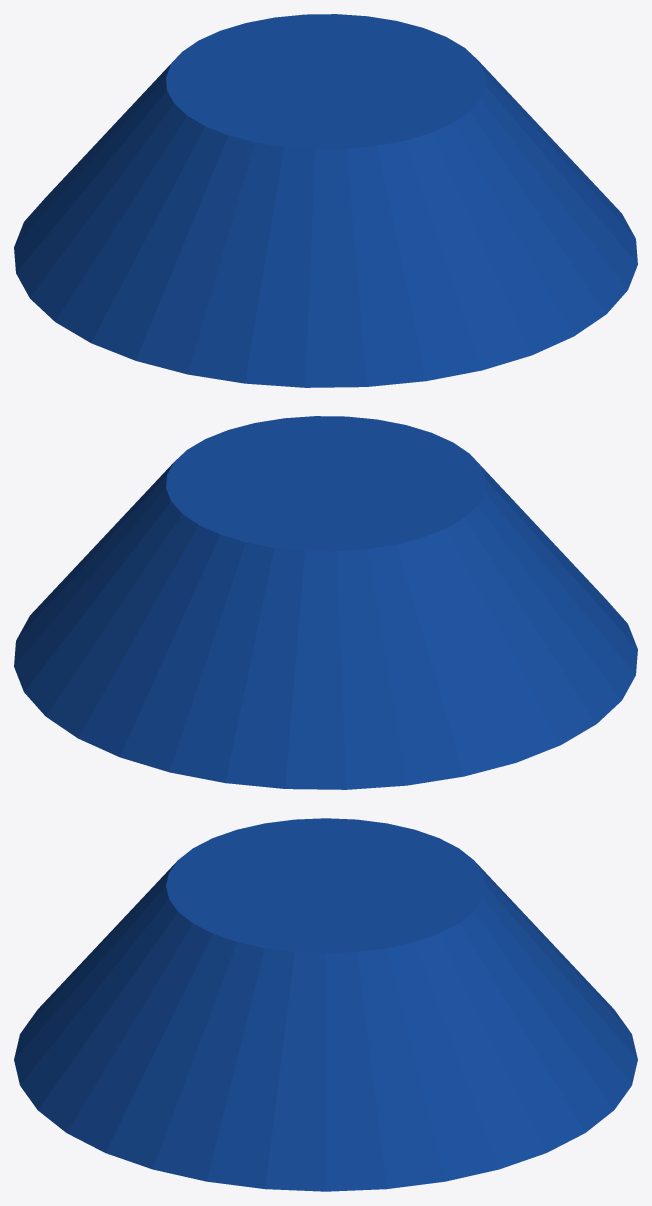
File: sensor.glb
The picture shows the model from 3 angles, top to bottom: view 1: azimuth 30°, elevation 25°; view 2: azimuth 150°, elevation 25°; view 3: azimuth 270°, elevation 25°; orthographic projection.
Parts seen in each view (by area): view 1: Cylinder; view 2: Cylinder; view 3: Cylinder.
Boxes of the visible parts, bbox=[...] form: Cylinder: bbox=[14, 14, 637, 387]; Cylinder: bbox=[14, 416, 637, 789]; Cylinder: bbox=[14, 818, 637, 1191].
Size of the model in its own units: 3.9 by 1.2 by 3.9.
